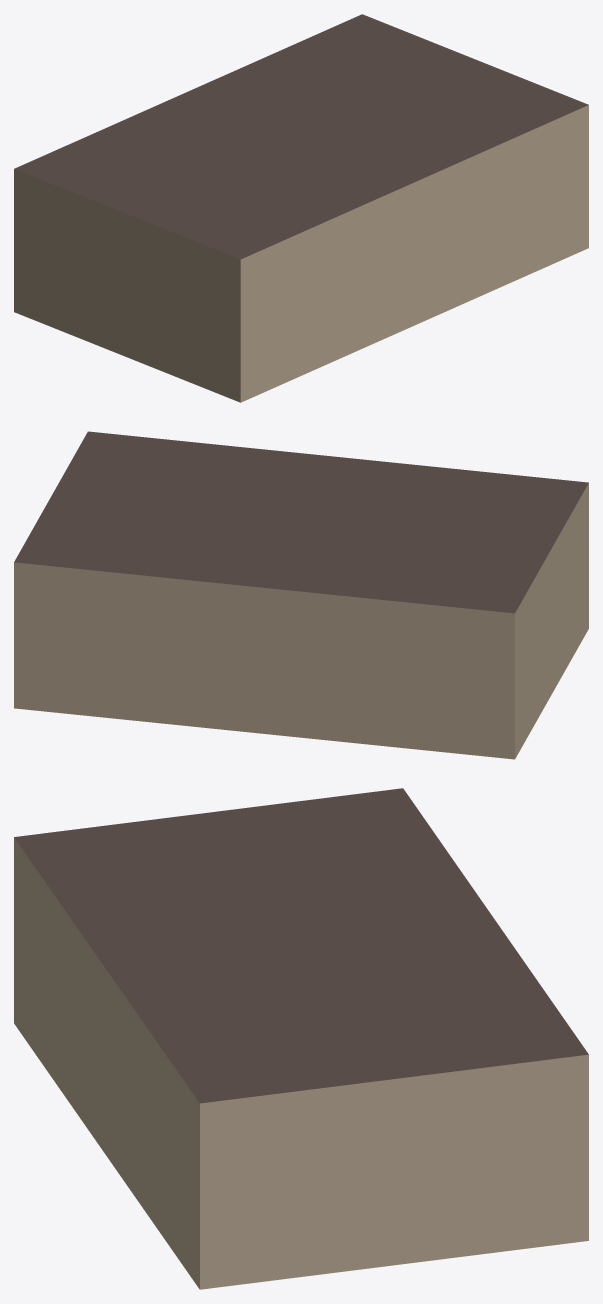
The picture shows the model from 3 angles, top to bottom: view 1: azimuth 30°, elevation 25°; view 2: azimuth 150°, elevation 25°; view 3: azimuth 270°, elevation 25°; orthographic projection. The views are drawn at different scales.
Visible parts, largest first — view 1: HP-w859091017; view 2: HP-w859091017; view 3: HP-w859091017.
Part boxes in pixels (x1,y1,x2,y2): HP-w859091017: [14, 14, 588, 402]; HP-w859091017: [14, 431, 588, 759]; HP-w859091017: [14, 788, 588, 1289].
Bounding box in the file's own units: 32.67 × 9 × 25.18.
